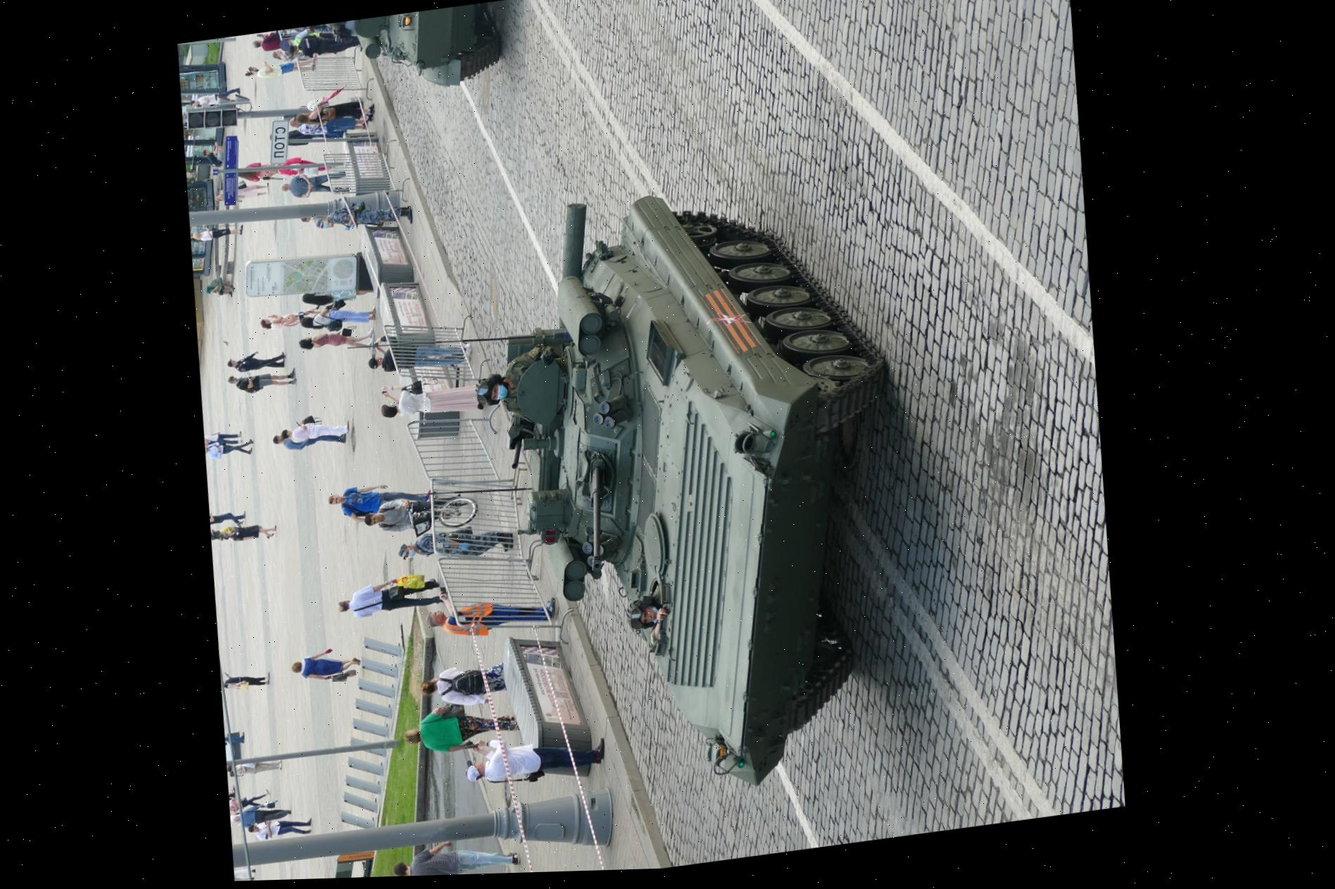armored_car: (434, 165, 928, 818), (318, 0, 525, 106)
